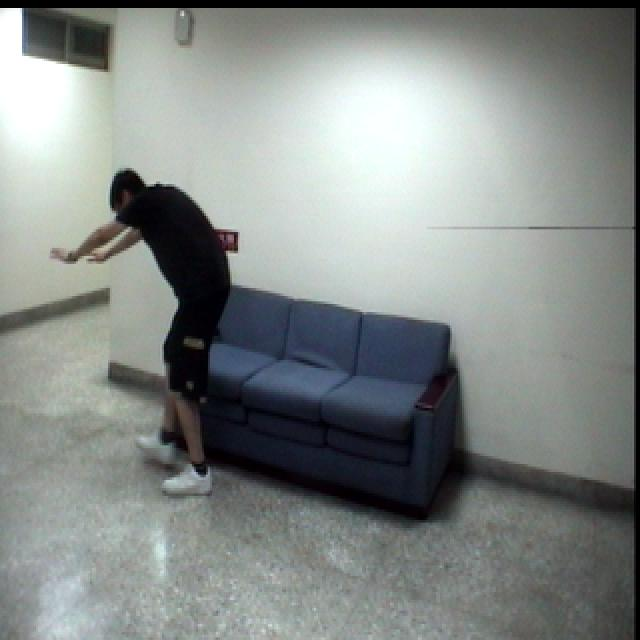bend: (41, 159, 240, 508)
